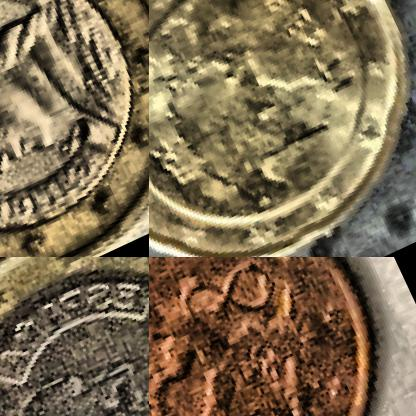coin: (149, 0, 415, 256), (149, 257, 415, 415), (0, 0, 148, 256), (0, 257, 148, 415)
